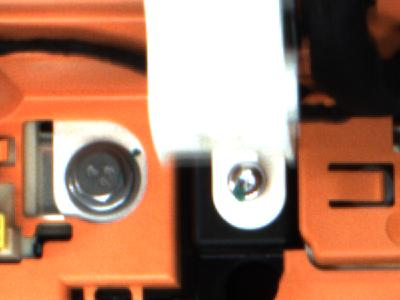nut_b: (63, 144, 142, 217)
